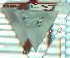Give way: (1, 0, 57, 53)
